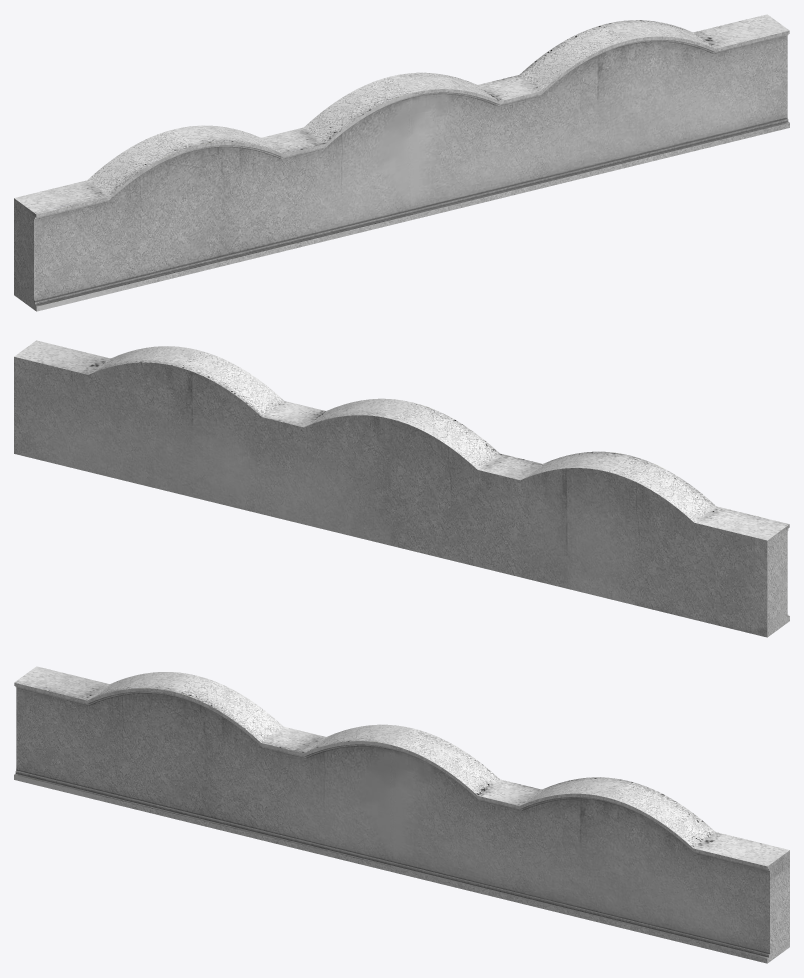
Rendered from roof_1.glb.
3 renders of one model, top to bottom at view 1: azimuth 30°, elevation 25°; view 2: azimuth 150°, elevation 25°; view 3: azimuth 330°, elevation 25°, orthographic.
Visible parts, largest first — view 1: roof_1; view 2: roof_1; view 3: roof_1.
Part boxes in pixels (x1,y1,x2,y2): roof_1: [14, 14, 789, 311]; roof_1: [14, 340, 789, 637]; roof_1: [14, 666, 789, 963].
Bounding box in the file's own units: 6.5 × 1.05 × 0.3373.
Materials: 1 (1 with a texture image).
